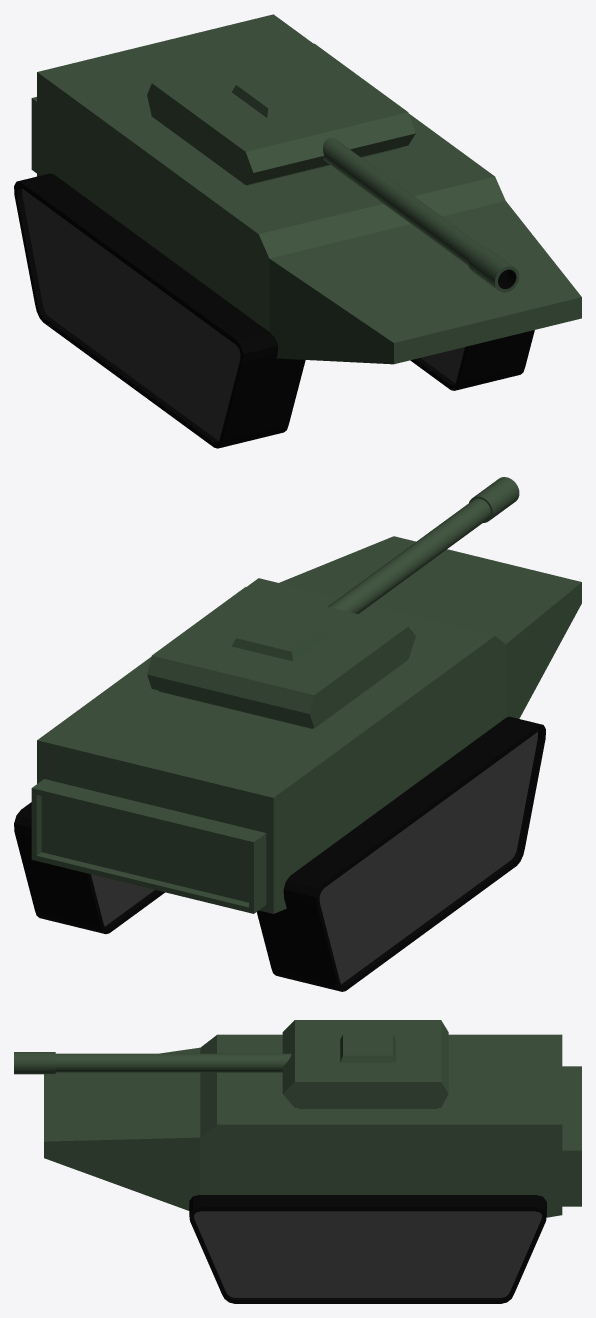
The model's file is Twin Boss Tank Textured.fbx.
3 renders of one model, top to bottom at view 1: azimuth 30°, elevation 25°; view 2: azimuth 150°, elevation 25°; view 3: azimuth 270°, elevation 25°, orthographic. The views are drawn at different scales.
Parts seen in each view (by area): view 1: Tank Base, Tank Top; view 2: Tank Base, Tank Top; view 3: Tank Base, Tank Top.
Boxes of the visible parts, x1,y1,x2,y2 form: Tank Base: [14, 14, 581, 448]; Tank Top: [147, 43, 519, 292]; Tank Base: [14, 536, 581, 991]; Tank Top: [147, 477, 519, 728]; Tank Base: [44, 1034, 581, 1303]; Tank Top: [14, 1020, 448, 1108].
Bounding box in the file's own units: 256 × 209 × 534.
2 materials, 2 textured.
